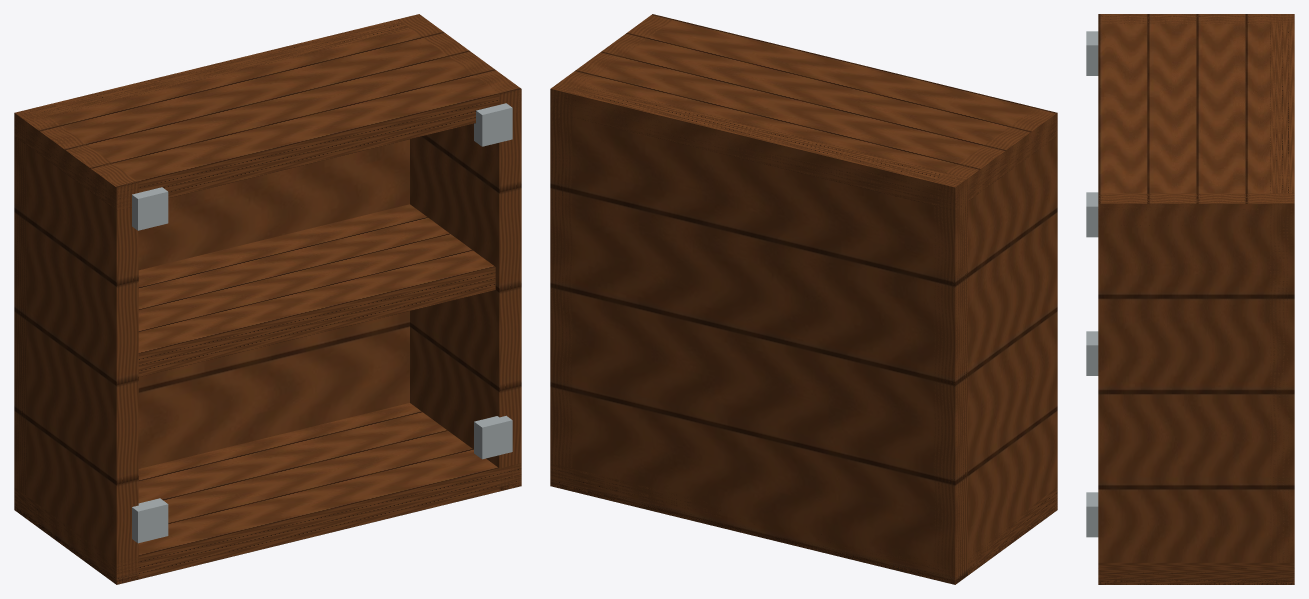
File: suburban-outbreak-interiors-kitchen-wall-carcass-4ad0f65f__19900.glb
The picture shows the model from 3 angles, left to right: view 1: azimuth 30°, elevation 25°; view 2: azimuth 150°, elevation 25°; view 3: azimuth 270°, elevation 25°; orthographic projection. The views are drawn at different scales.
Parts seen in each view (by area): view 1: kitchen-wall-carcass; view 2: kitchen-wall-carcass; view 3: kitchen-wall-carcass.
Part boxes in pixels (<box>): kitchen-wall-carcass: <box>14,14,521,584</box>; kitchen-wall-carcass: <box>550,14,1057,584</box>; kitchen-wall-carcass: <box>1086,14,1294,584</box>.
Bounding box in the file's own units: 0.8 × 0.75 × 0.371.
Materials: 2 (1 with a texture image).
